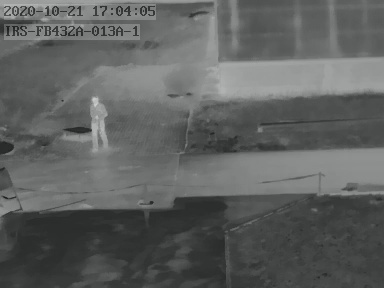person: (88, 94, 109, 152)
